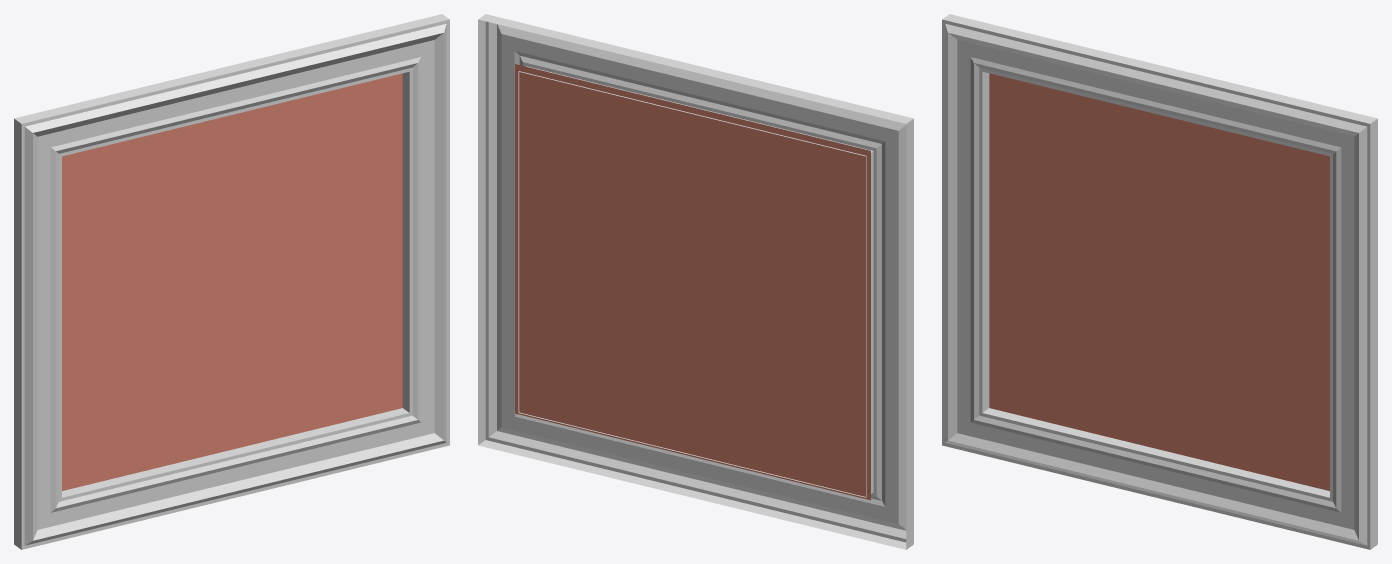
The model's file is SM_Props_Decor_08.fbx.
3 renders of one model, left to right at view 1: azimuth 30°, elevation 25°; view 2: azimuth 150°, elevation 25°; view 3: azimuth 330°, elevation 25°, orthographic.
Visible parts, largest first — view 1: SM_Props_Decor_08; view 2: SM_Props_Decor_08; view 3: SM_Props_Decor_08.
Boxes of the visible parts, box(x1,y1,x2,y2) form: SM_Props_Decor_08: box(14, 14, 449, 549); SM_Props_Decor_08: box(478, 14, 913, 549); SM_Props_Decor_08: box(942, 14, 1377, 549).
Bounding box in the file's own units: 207 × 197 × 8.61.
